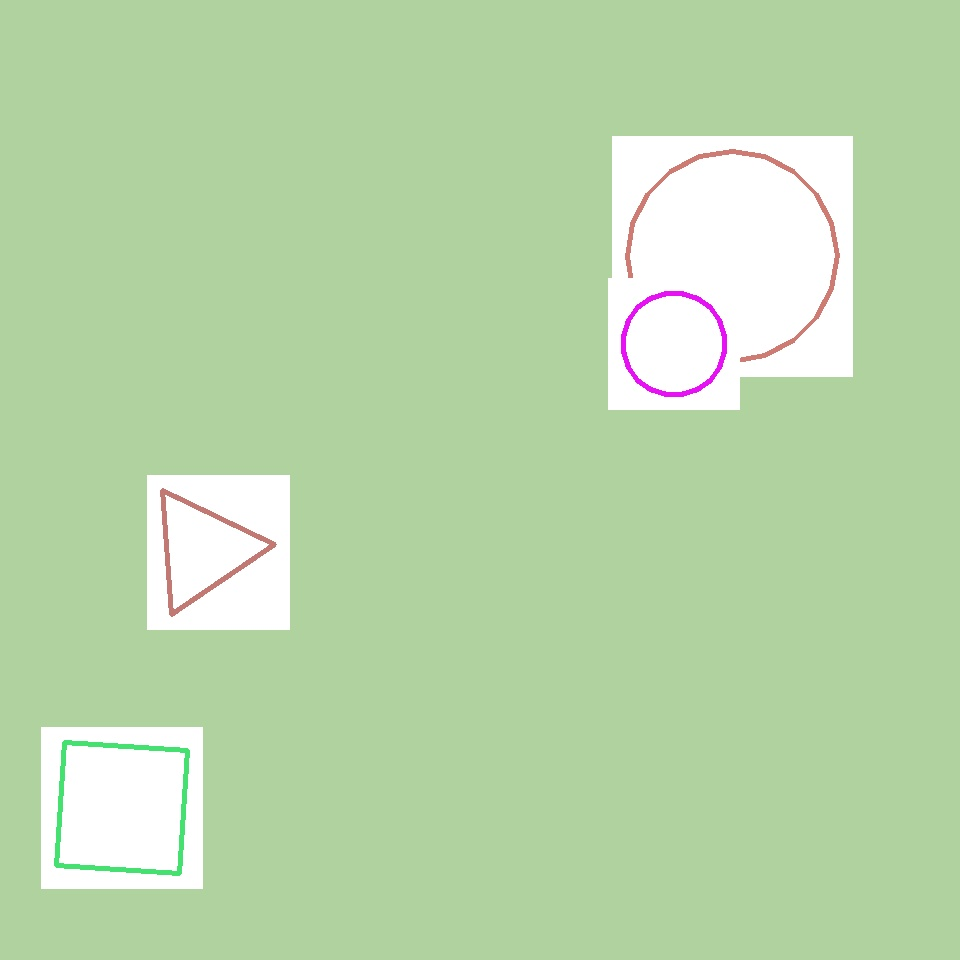circle: (392, 132, 650, 422), (78, 680, 280, 854), (447, 79, 575, 195), (147, 488, 259, 612), (702, 649, 792, 731)
square: (56, 742, 188, 874)
triangle: (627, 151, 837, 361), (712, 536, 914, 738), (224, 676, 418, 869), (624, 294, 724, 394)
